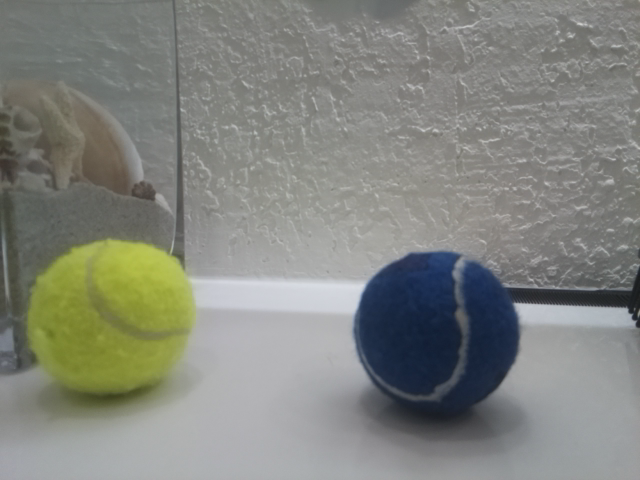blue-ball: (350, 250, 522, 421)
yellow-ball: (25, 237, 196, 400)
